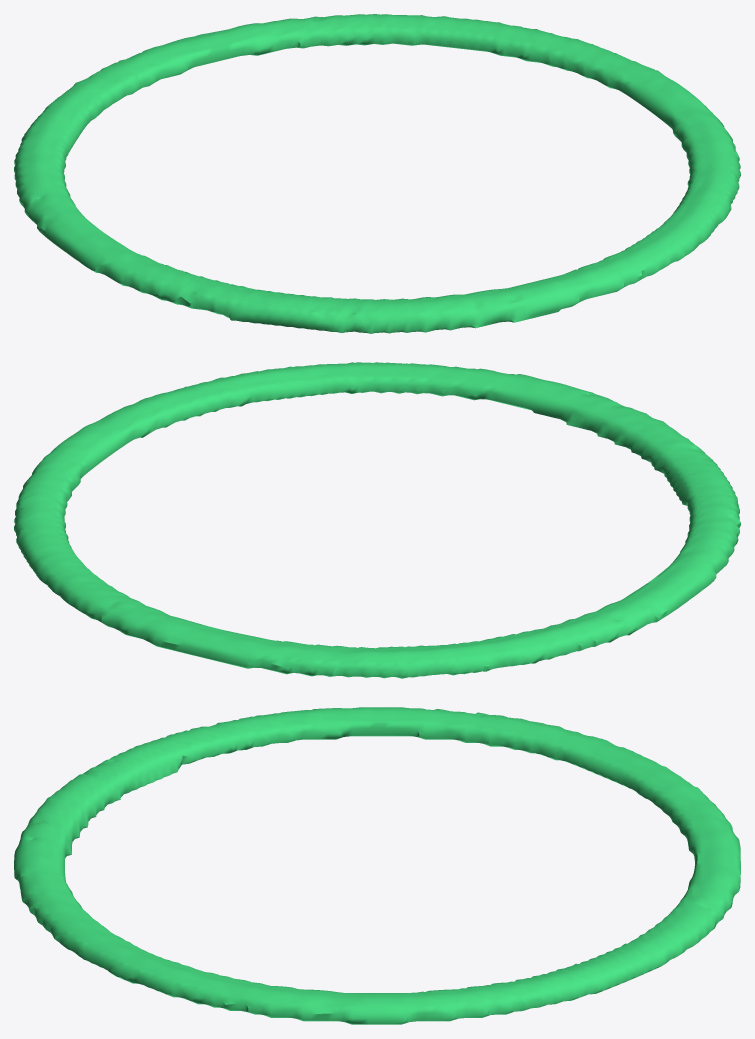
The picture shows the model from 3 angles, top to bottom: view 1: azimuth 30°, elevation 25°; view 2: azimuth 150°, elevation 25°; view 3: azimuth 270°, elevation 25°; orthographic projection.
Parts seen in each view (by area): view 1: split_parent_0; view 2: split_parent_0; view 3: split_parent_0.
Part boxes in pixels (left/top/right/bottom): split_parent_0: left=14, top=14, right=740, bottom=333; split_parent_0: left=14, top=362, right=740, bottom=678; split_parent_0: left=14, top=707, right=740, bottom=1024.
Bounding box in the file's own units: 1 × 0.0296 × 1.
